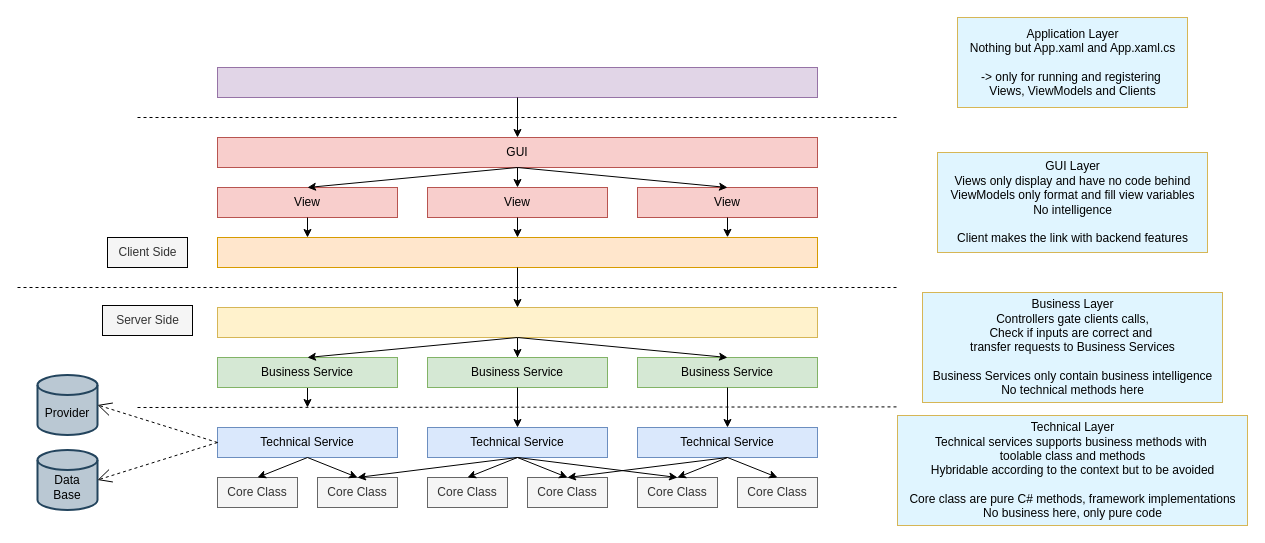
Some shapes in this 1265 by 543 pixel diagram are drawn without their labels. The box of each missing label's shape, as (x1, y1, x2, y2) in pixels:
Application: (216, 66, 818, 98)
Client: (216, 236, 818, 268)
Controller: (216, 306, 818, 338)
